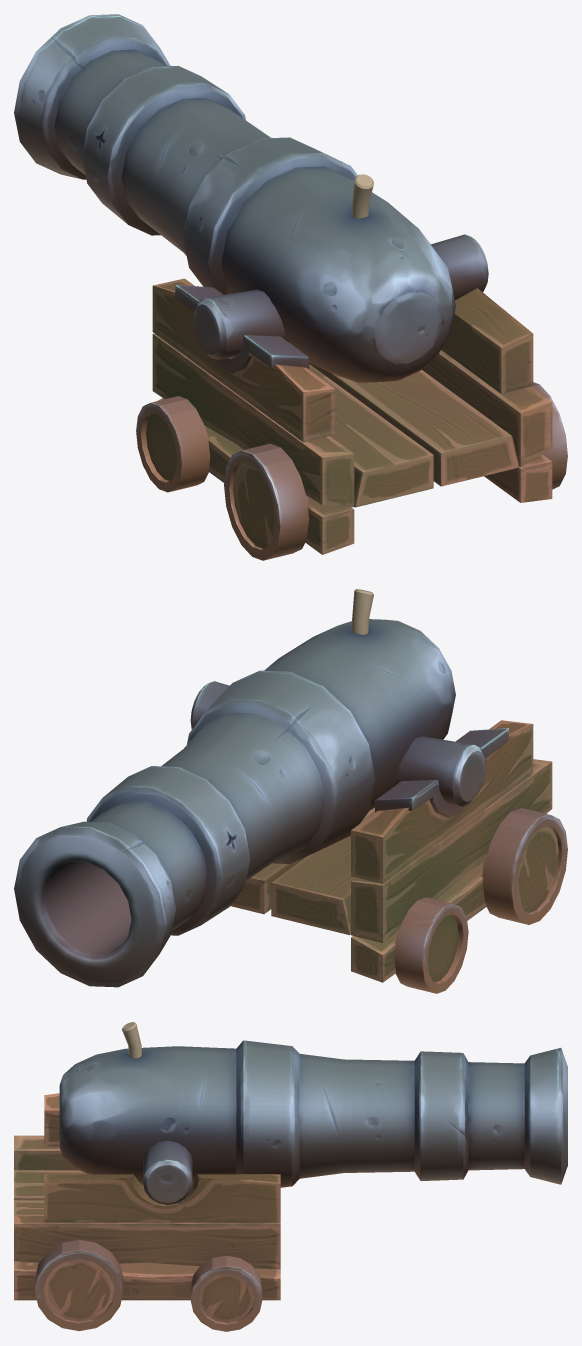
File: SM_Ship_Cannonball.gltf
The picture shows the model from 3 angles, top to bottom: view 1: azimuth 30°, elevation 25°; view 2: azimuth 150°, elevation 25°; view 3: azimuth 270°, elevation 25°; orthographic projection. The views are drawn at different scales.
Visible parts, largest first — view 1: SM_Ship_Cannonball_LOD0; view 2: SM_Ship_Cannonball_LOD0; view 3: SM_Ship_Cannonball_LOD0.
Part boxes in pixels (left/top/right/bottom): SM_Ship_Cannonball_LOD0: left=14, top=14, right=567, bottom=560; SM_Ship_Cannonball_LOD0: left=14, top=589, right=567, bottom=993; SM_Ship_Cannonball_LOD0: left=14, top=1022, right=567, bottom=1331.
Size of what is drawn, in the model's own units: 1.02 by 1.09 by 2.17.
Materials: 1 (1 with a texture image).
